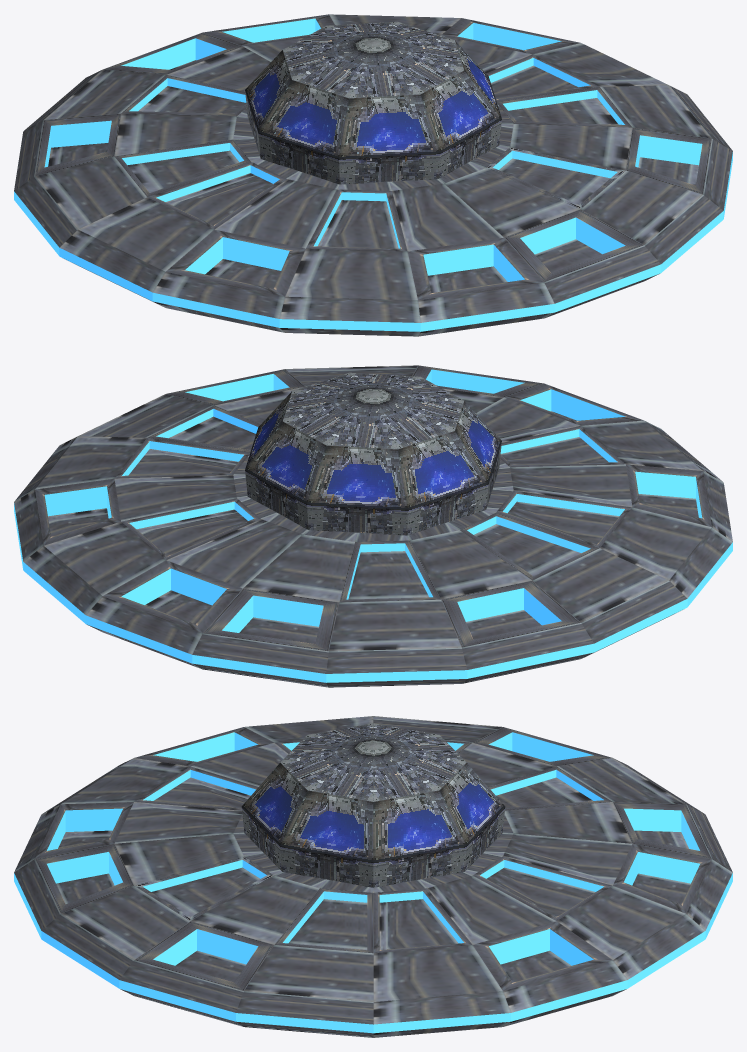
Rendered from UFO.fbx.
3 views of the same model, one above another, from view 1: azimuth 30°, elevation 25°; view 2: azimuth 150°, elevation 25°; view 3: azimuth 270°, elevation 25° (orthographic).
Visible parts, largest first — view 1: Sphere.006; view 2: Sphere.006; view 3: Sphere.006.
Part boxes in pixels (box(x1,y1,x2,y2)): Sphere.006: box(14, 14, 732, 336); Sphere.006: box(14, 365, 732, 687); Sphere.006: box(14, 716, 732, 1037).
Bounding box in the file's own units: 1395 × 384 × 1395.
Materials: 3 (2 with a texture image).
